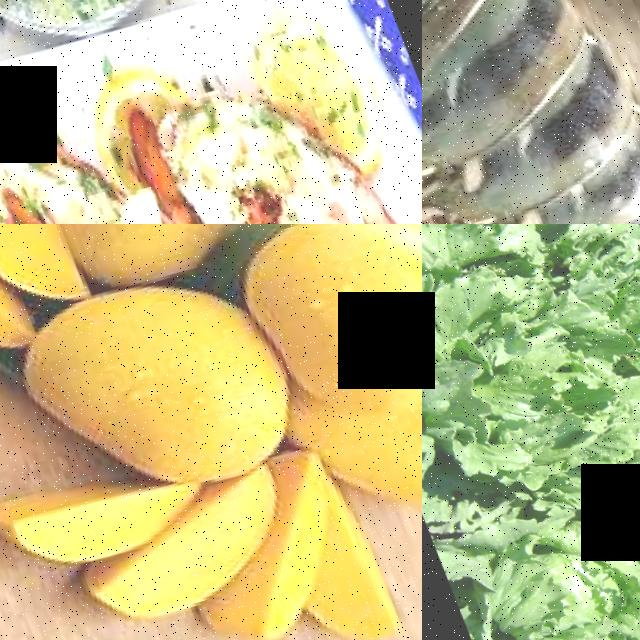lemon: (253, 13, 387, 158)
lettuce: (432, 308, 593, 447), (449, 523, 619, 640), (422, 224, 506, 320), (600, 384, 640, 505), (599, 251, 640, 348)
lobster tails: (422, 0, 640, 224), (292, 160, 422, 224)
mango: (0, 256, 305, 498), (220, 224, 422, 434)
